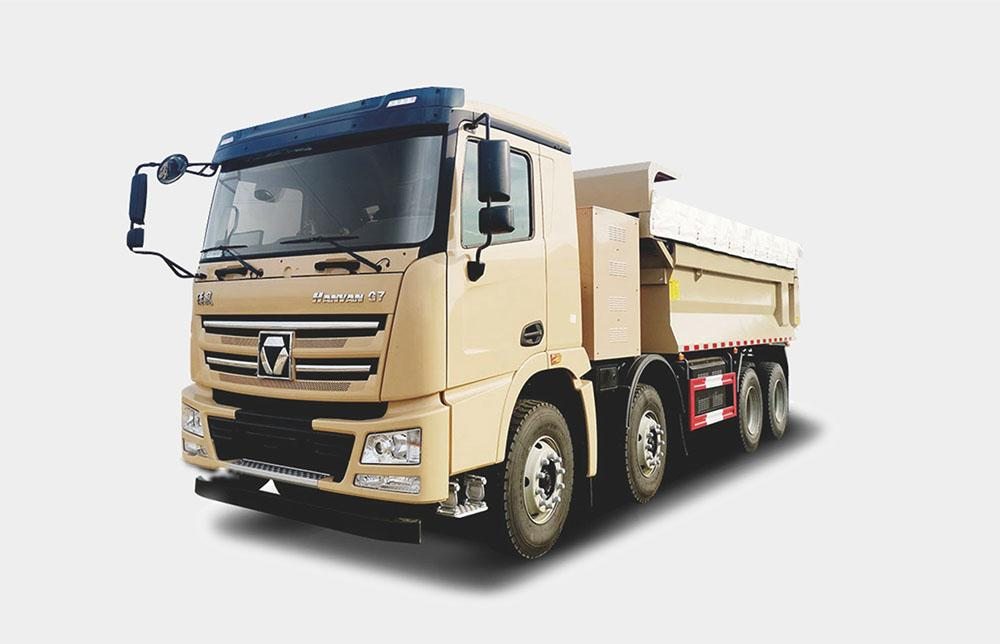truck: (139, 76, 815, 563)
